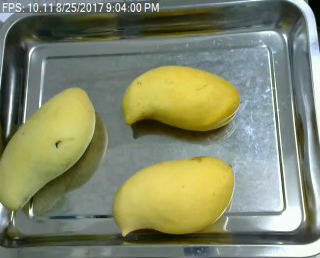Mango: (0, 85, 95, 209), (111, 154, 238, 239), (122, 63, 243, 133)
